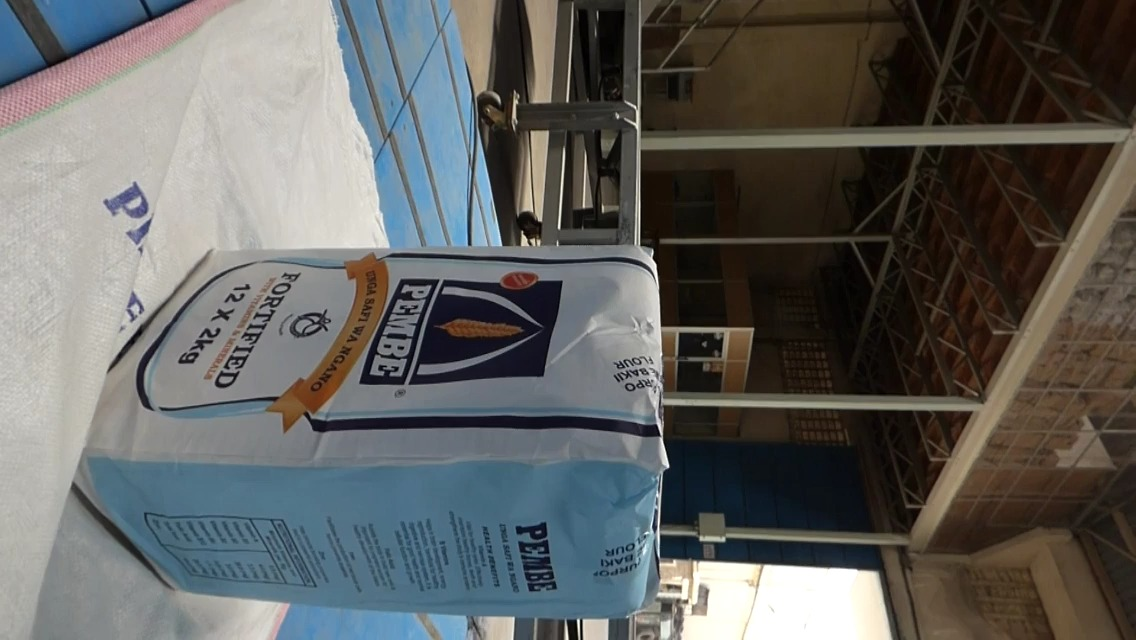wheat_flour_blue_label: (92, 241, 663, 616)
